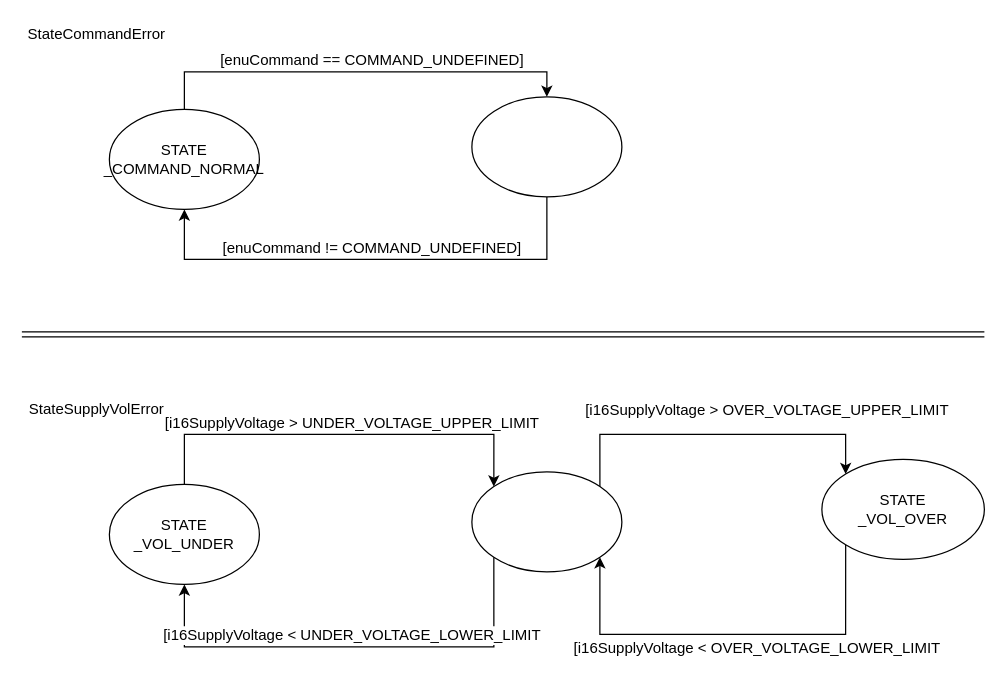
The diagram is 1006 pixels wide and 679 high, and some of its shapes have lost their labels. The shapes that lost their labels are listed below. From the top down, each one's box as (x1, y1, x2, y2) in pixels, then its label:
(471, 96, 622, 197): STATE _COMMAND_UNDEFINED
(471, 471, 622, 572): STATE _VOL_NORMAL
